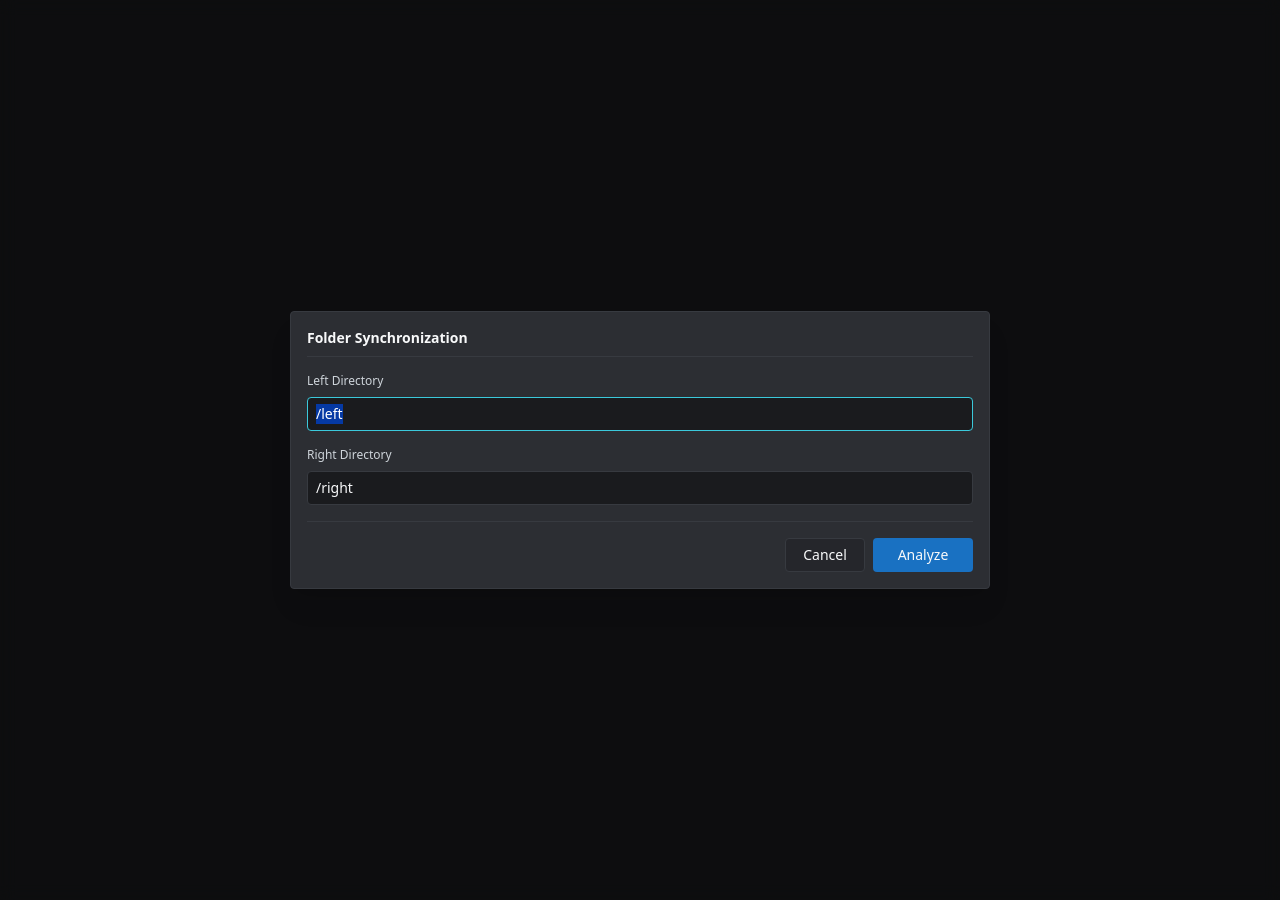
Test case: SyncDialog › keeps the dialog open and reports failed sync items
Click the button "Analyze". click: (923, 555)
box: [873,538,973,572]
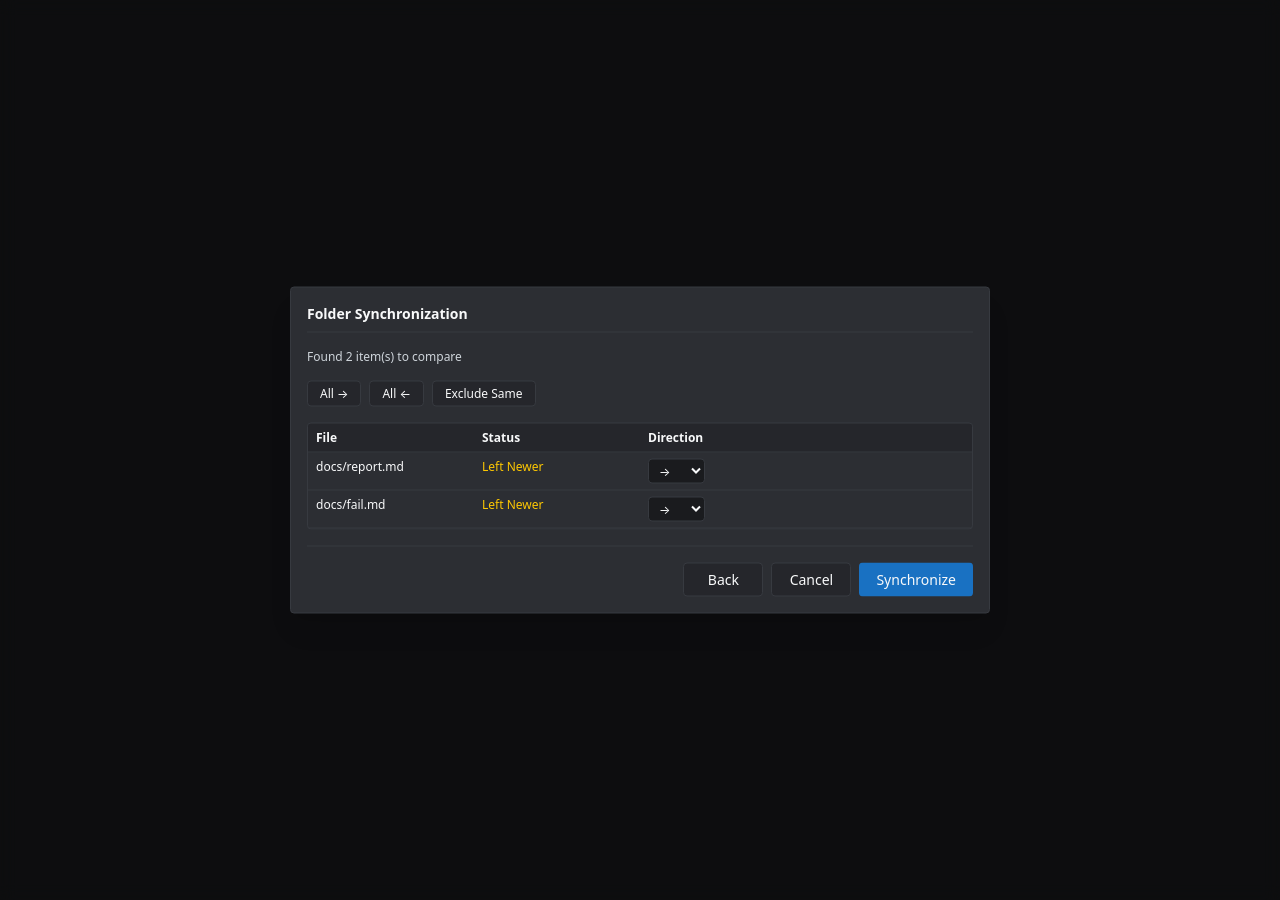
Expected: the text "Found 2 item(s) to compare" is shown, [307,348,462,364]
Click the button "Synchronize". click: (916, 580)
box: [859,562,973,596]
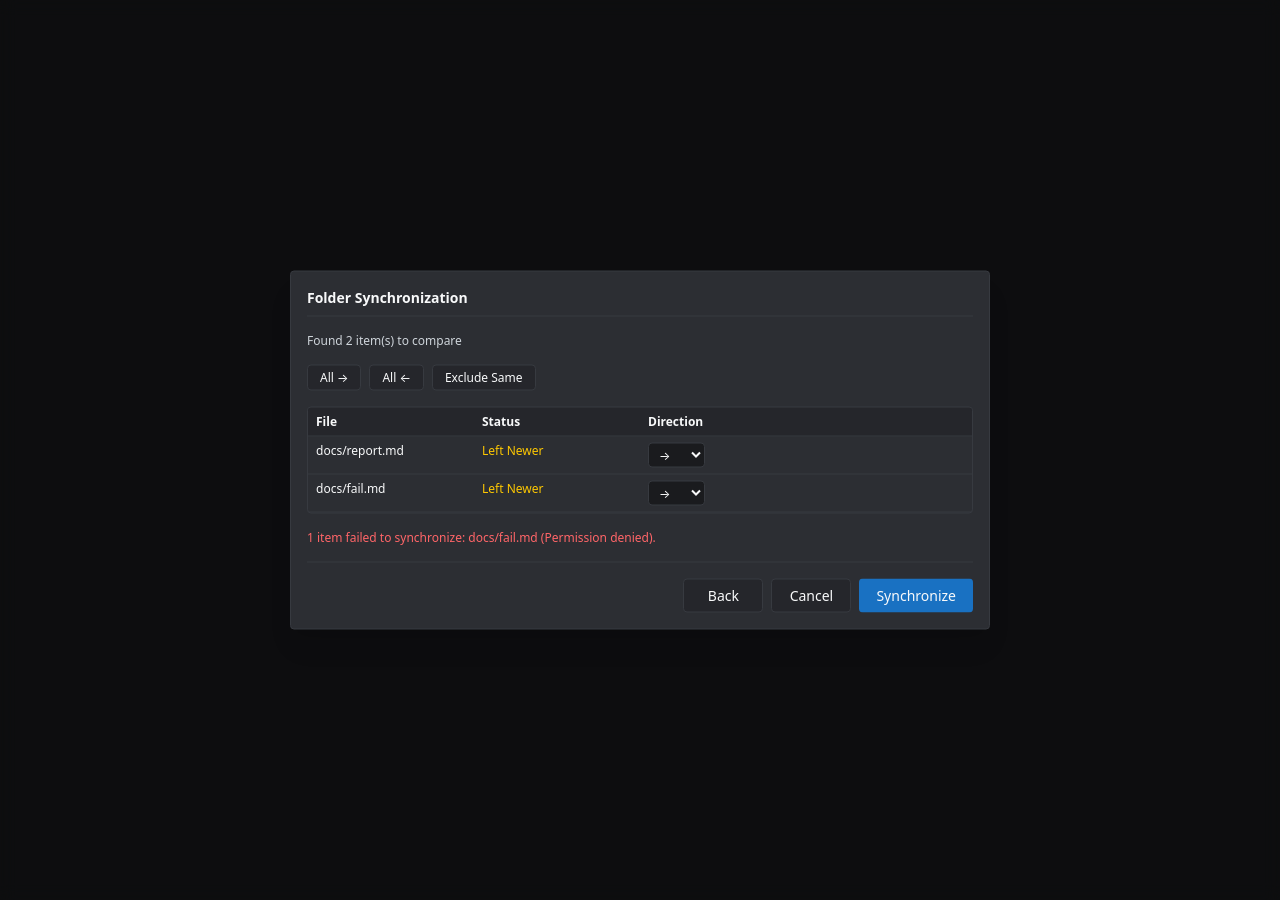
Expected: the text "1 item failed to synchronize: docs/fail.md (Permission denied)." is shown, [307,528,656,546]
